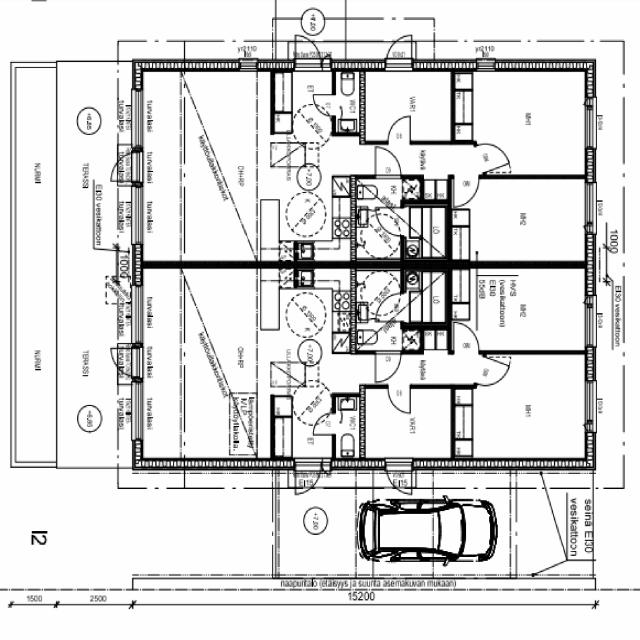door: (474, 356, 510, 393), (475, 136, 511, 173), (104, 346, 143, 378), (294, 28, 322, 72), (385, 457, 412, 501), (105, 150, 143, 181), (386, 28, 412, 71), (295, 457, 321, 499), (375, 292, 406, 320), (453, 320, 479, 353), (375, 146, 400, 179), (454, 174, 478, 206), (377, 208, 406, 234), (376, 350, 400, 380), (388, 383, 410, 413), (388, 116, 410, 144), (312, 412, 335, 434), (312, 94, 335, 116), (322, 457, 331, 480), (322, 49, 330, 72)
